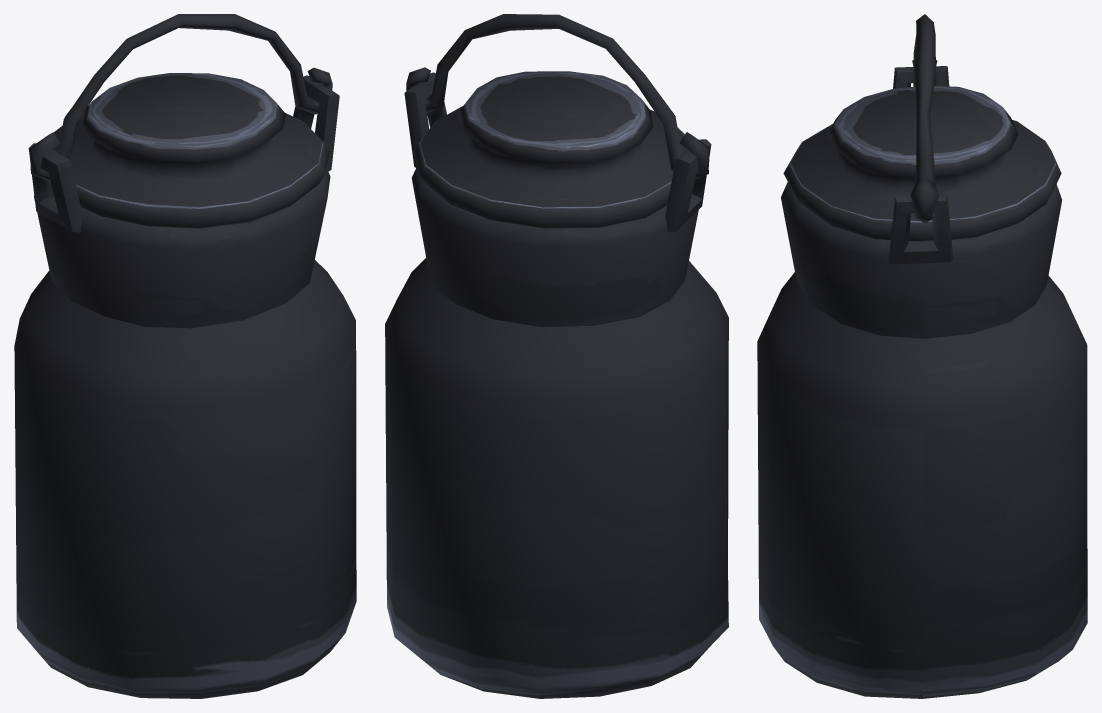
Rendered from SM_PROP_milkcan_interior.fbx.
The picture shows the model from 3 angles, left to right: view 1: azimuth 30°, elevation 25°; view 2: azimuth 150°, elevation 25°; view 3: azimuth 270°, elevation 25°; orthographic projection. The views are drawn at different scales.
Parts seen in each view (by area): view 1: SM_PROP_milkcan_interior, SM_PROP_milkcan_lid_interior, SM_PROP_milkcan_handle_interior; view 2: SM_PROP_milkcan_interior, SM_PROP_milkcan_lid_interior, SM_PROP_milkcan_handle_interior; view 3: SM_PROP_milkcan_interior, SM_PROP_milkcan_lid_interior, SM_PROP_milkcan_handle_interior.
Part boxes in pixels (left/top/right/bottom): SM_PROP_milkcan_interior: left=14, top=75, right=356, bottom=698; SM_PROP_milkcan_lid_interior: left=52, top=73, right=329, bottom=228; SM_PROP_milkcan_handle_interior: left=29, top=14, right=332, bottom=181; SM_PROP_milkcan_interior: left=385, top=72, right=728, bottom=698; SM_PROP_milkcan_lid_interior: left=413, top=71, right=686, bottom=228; SM_PROP_milkcan_handle_interior: left=406, top=14, right=709, bottom=179; SM_PROP_milkcan_interior: left=757, top=66, right=1087, bottom=698; SM_PROP_milkcan_lid_interior: left=783, top=85, right=1061, bottom=240; SM_PROP_milkcan_handle_interior: left=910, top=14, right=938, bottom=223.
Size of the model in its own units: 42.72 by 82.34 by 40.47.
